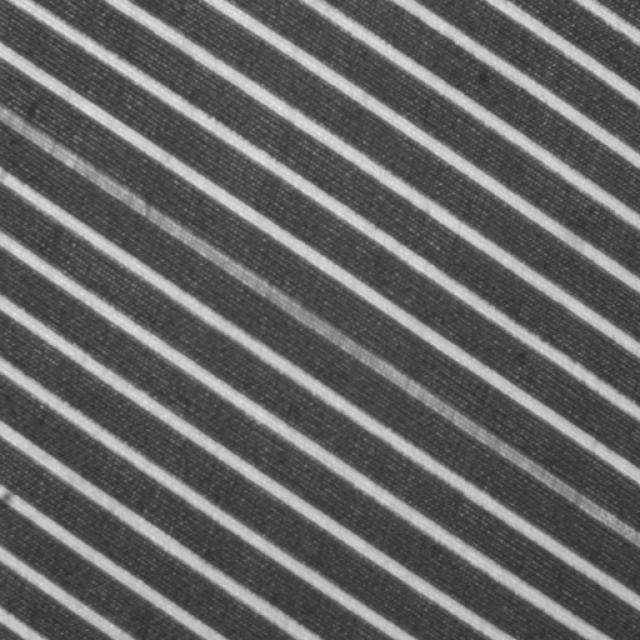Stain-Defect: (0, 104, 639, 560)
